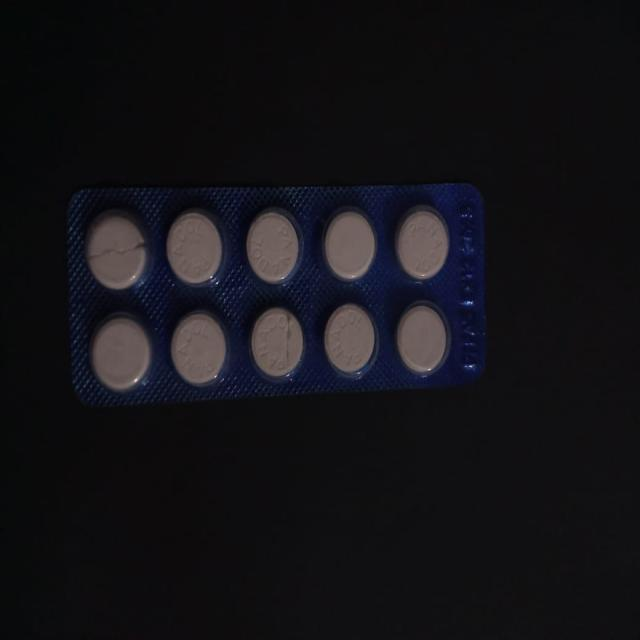defect: (82, 204, 152, 295), (246, 300, 308, 386)
